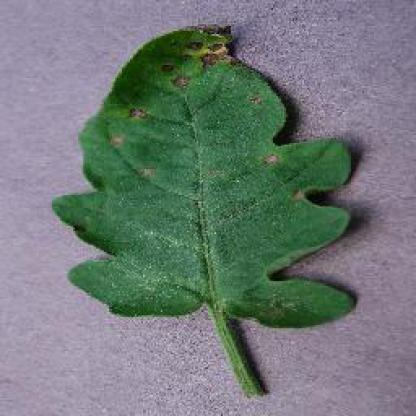bad leaf: (166, 25, 242, 95), (106, 104, 165, 146), (124, 162, 167, 178), (258, 153, 285, 174), (251, 90, 267, 120), (285, 192, 306, 204)
